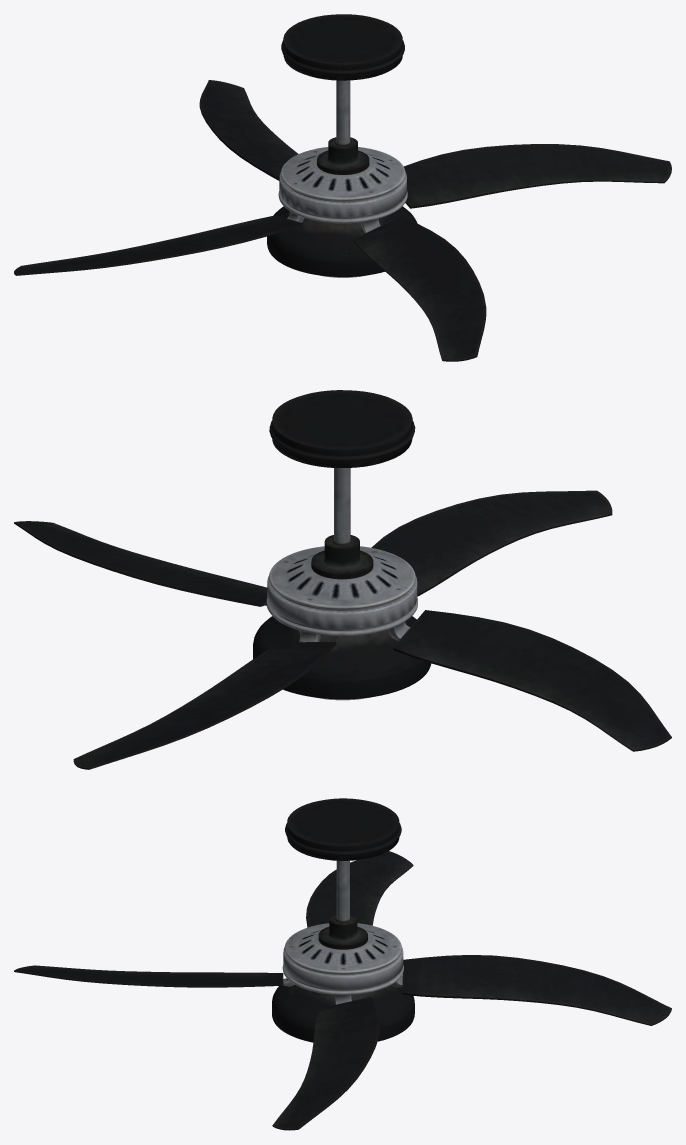
Rendered from ceiling-fan.glb.
The picture shows the model from 3 angles, top to bottom: view 1: azimuth 30°, elevation 25°; view 2: azimuth 150°, elevation 25°; view 3: azimuth 270°, elevation 25°; orthographic projection. The views are drawn at different scales.
Visible parts, largest first — view 1: ceiling_fan_blades, ceiling_fan; view 2: ceiling_fan_blades, ceiling_fan; view 3: ceiling_fan_blades, ceiling_fan.
Part boxes in pixels (bbox=[...]): ceiling_fan_blades: bbox=[14, 80, 671, 361]; ceiling_fan: bbox=[267, 14, 417, 277]; ceiling_fan_blades: bbox=[14, 490, 671, 769]; ceiling_fan: bbox=[253, 390, 431, 700]; ceiling_fan_blades: bbox=[14, 851, 671, 1130]; ceiling_fan: bbox=[272, 798, 414, 1042].
Bounding box in the file's own units: 1.46 × 0.5163 × 1.46.
Materials: 1 (1 with a texture image).
